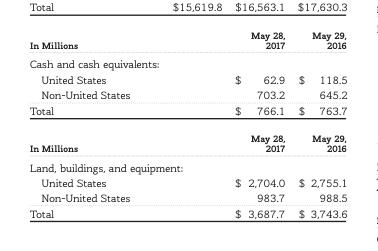table: (28, 28, 346, 219)
table column: (28, 28, 181, 219), (181, 28, 291, 219), (291, 28, 346, 219)
table column header: (28, 28, 346, 53)
table projected row header: (28, 53, 346, 71), (28, 157, 346, 174)
table row: (28, 124, 346, 157), (28, 28, 346, 53), (28, 102, 346, 124), (28, 53, 346, 71), (28, 157, 346, 174), (28, 86, 346, 102), (28, 189, 346, 205), (28, 71, 346, 86), (28, 174, 346, 189), (28, 205, 346, 219)
